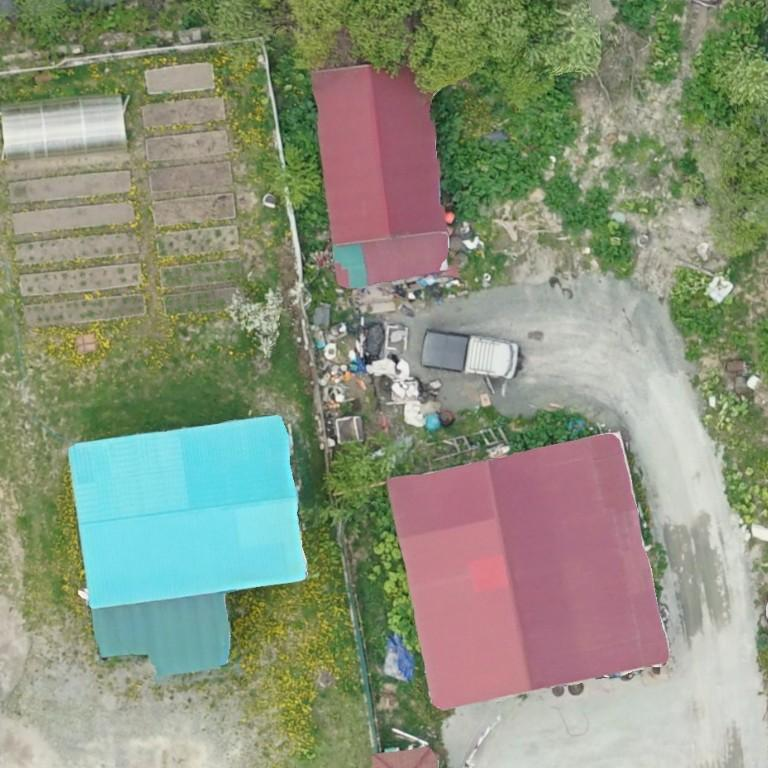hogweed: (433, 76, 611, 233), (682, 78, 732, 126), (509, 422, 579, 451), (279, 100, 317, 147), (296, 191, 327, 239), (672, 303, 715, 337), (594, 239, 632, 270)
